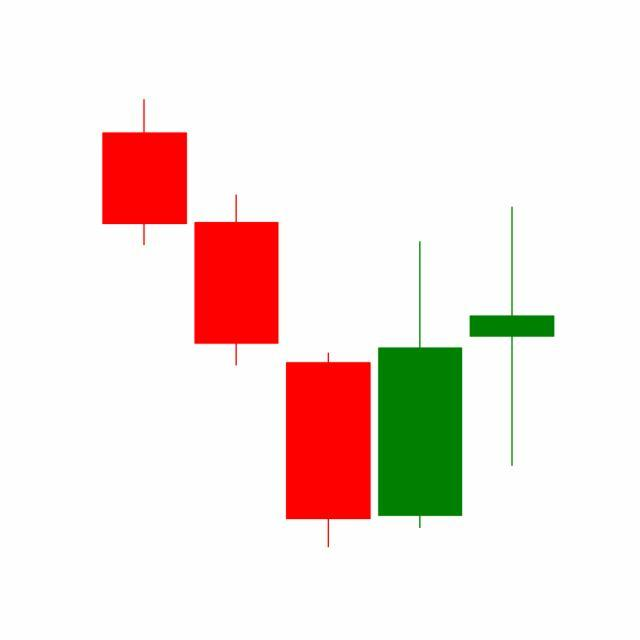Tasuki Gap: (190, 190, 467, 549)
